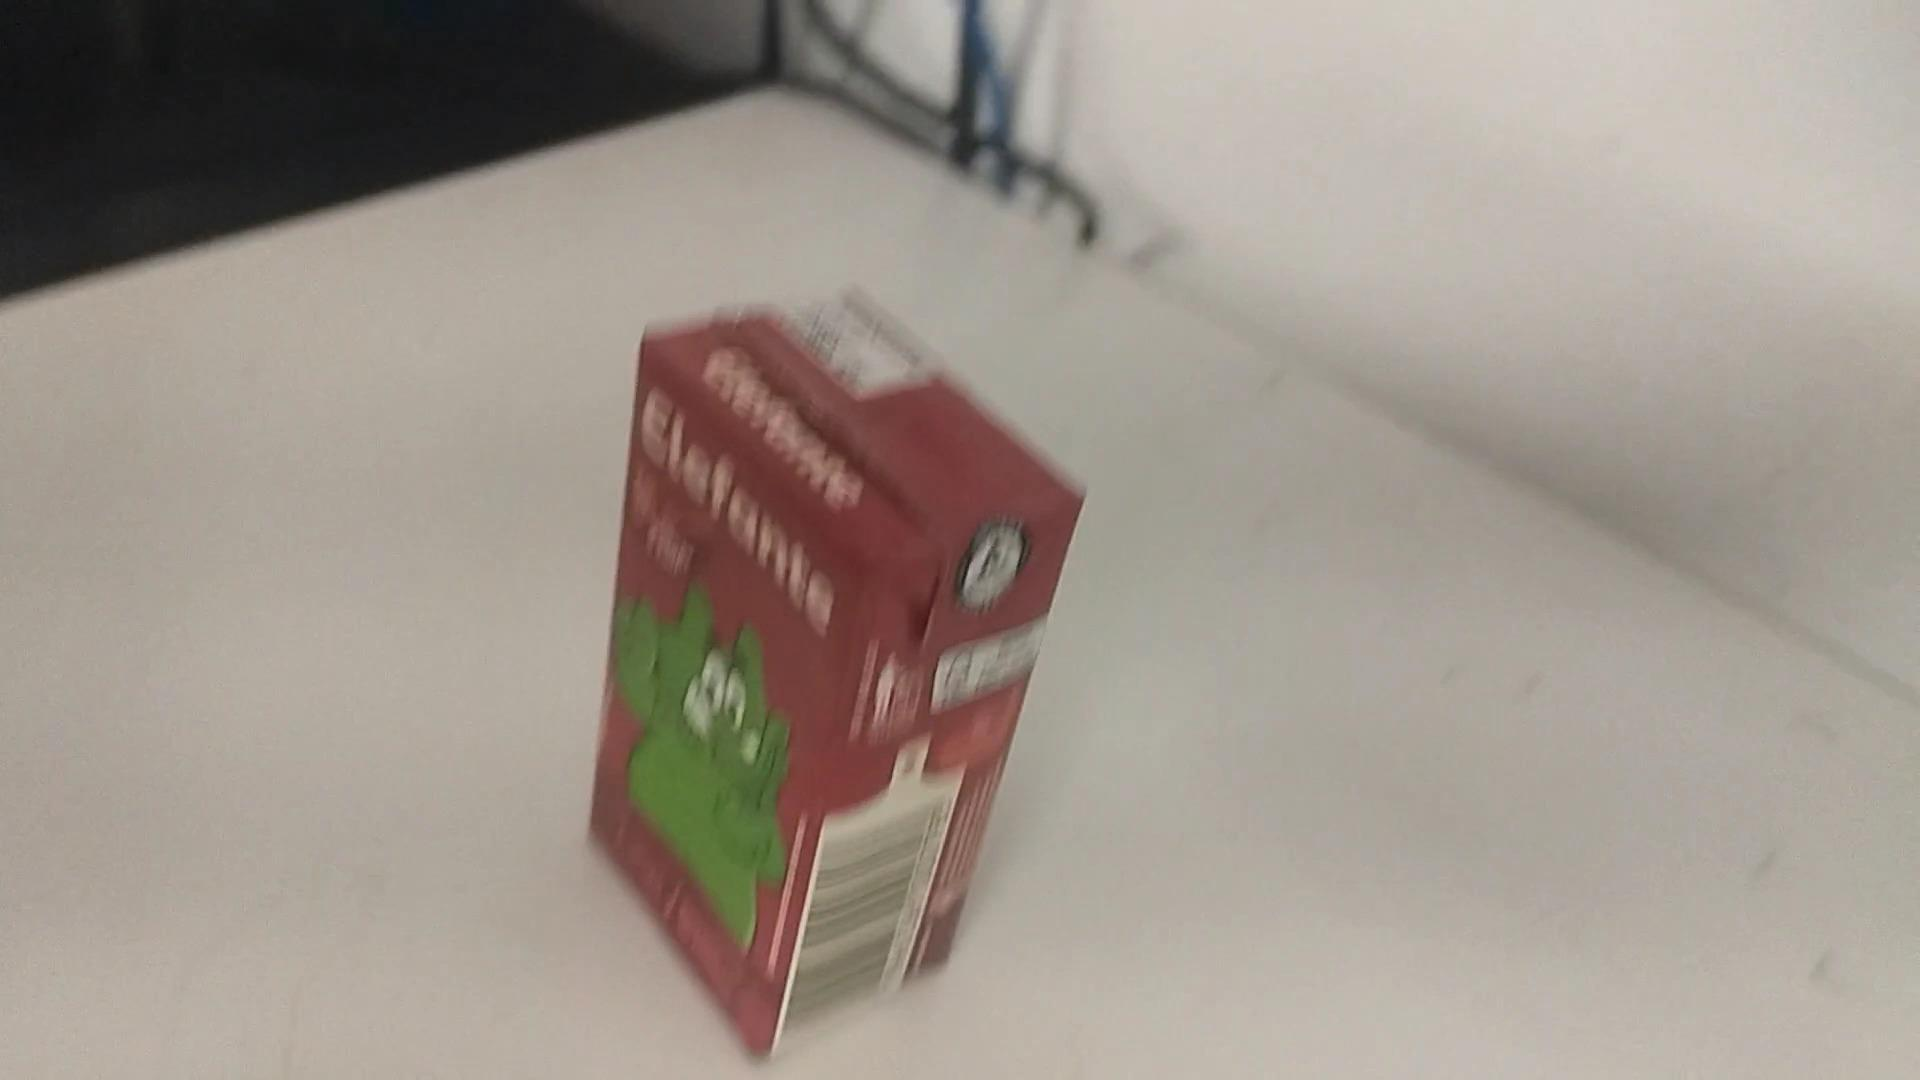tomate: (570, 274, 1100, 1063)
